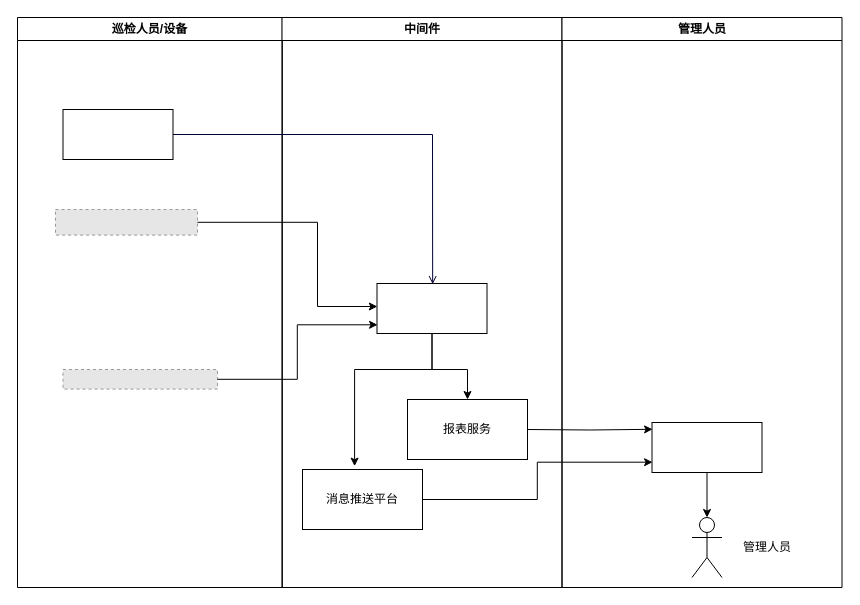
This 860x605 diagram has some shape labels left out. Grey dashed boxes stand in for pictures. Each missing label, with the centre of its shape:
"其他第三方平台（Zata）" goes at [117,134].
"物联网平台" goes at [431,308].
"统一APP" goes at [706,447].
